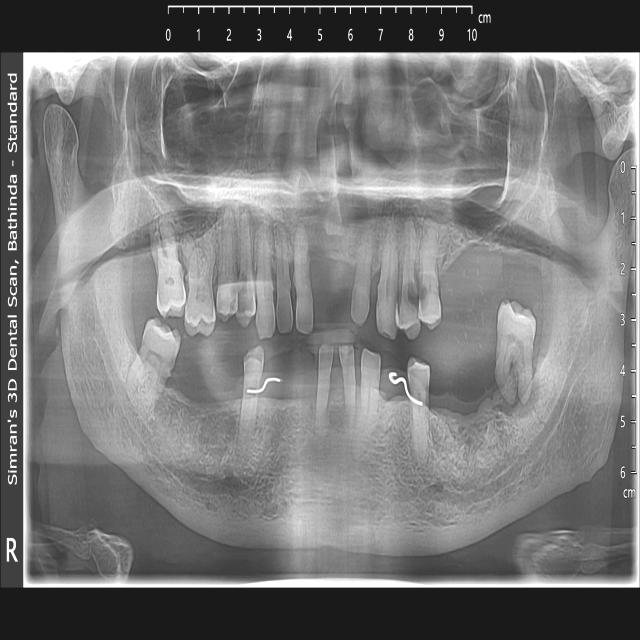Caries: (397, 285, 420, 340), (216, 276, 240, 321), (236, 271, 254, 326), (418, 277, 440, 322)
Missing teeth: (164, 357, 242, 458), (436, 375, 499, 441), (318, 242, 352, 310), (444, 246, 475, 301), (287, 376, 314, 424)
Periapical lesion: (497, 367, 542, 422), (271, 215, 294, 258), (393, 201, 420, 237), (350, 439, 374, 476), (236, 200, 255, 246), (217, 205, 237, 238), (329, 408, 351, 434)
